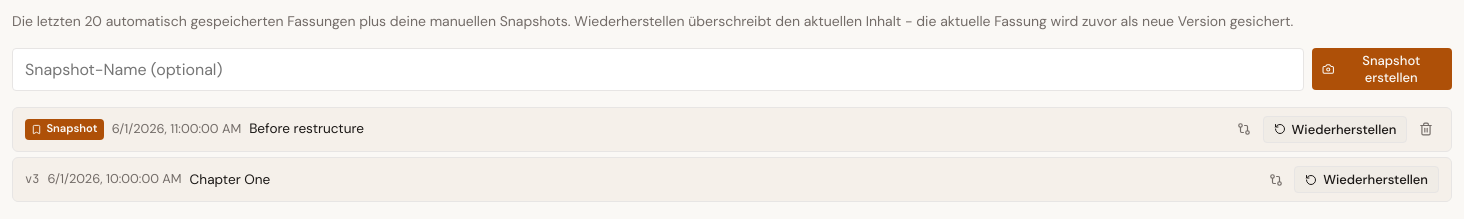
it: ChapterVersionsView › shows a line diff with added/removed lines and a title-change note
expect the list with test id "chapter-versions-list" is shown: met, box [12,107,1452,202]
Click the button named "Mit aktueller Fassung vergleichen" in the row of "6/1/2026, 11:00:00 AM" at [1244, 129], box [1231,116,1257,142]
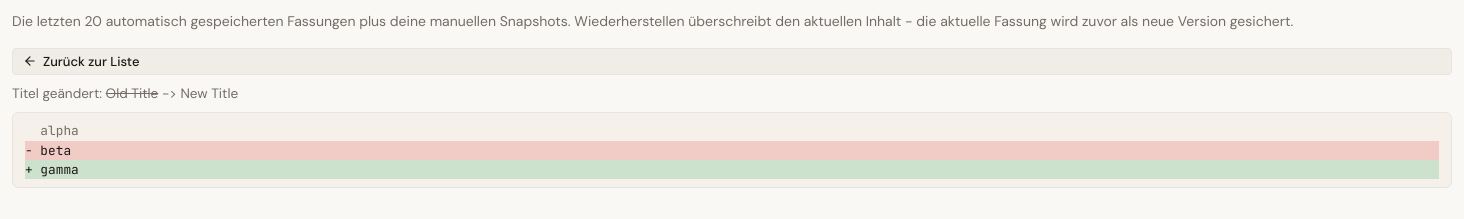
expect the element with test id "chapter-version-diff-title-change" is shown: met, box [12,85,238,102]
expect the element with test id "chapter-version-diff" shows "+ gamma": met
expect the element with test id "chapter-version-diff" shows "- beta": met
